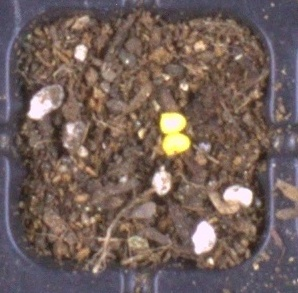chilli seed: (163, 132, 191, 157), (159, 111, 187, 135)
